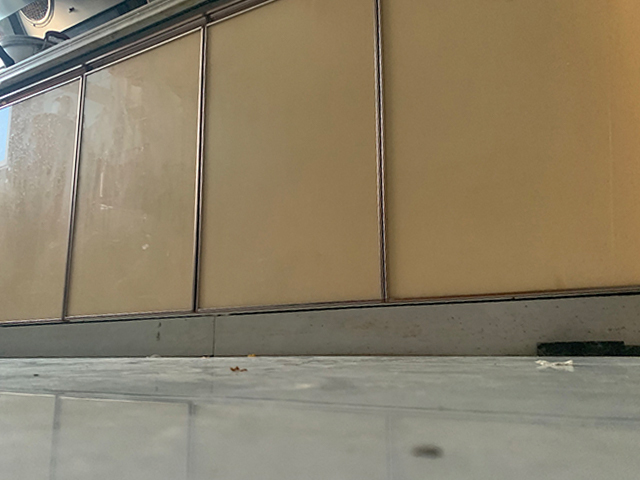cabinet: (1, 1, 640, 357)
